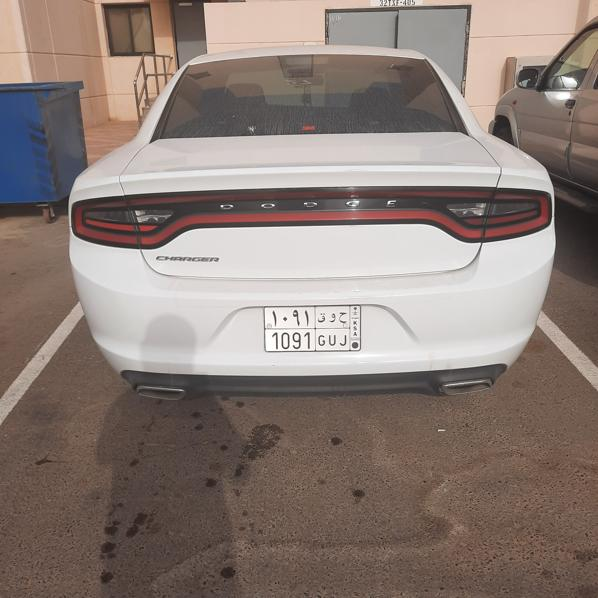numberplate: (264, 306, 362, 351)
